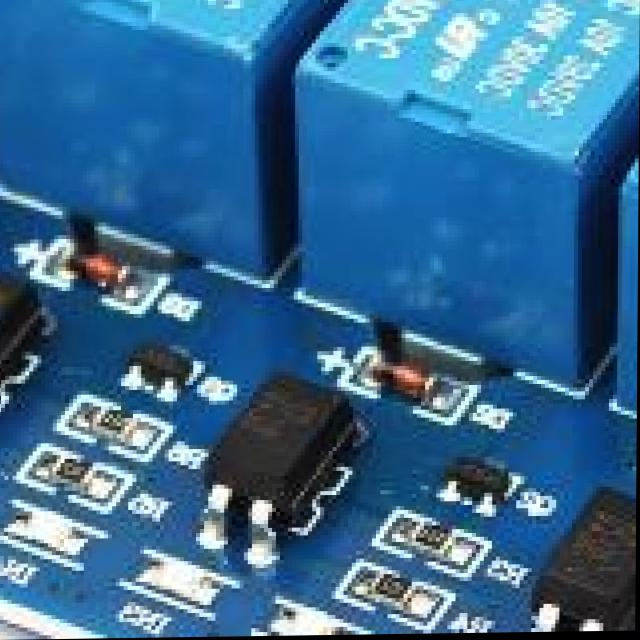IC: (197, 368, 362, 540), (536, 465, 637, 634), (0, 247, 47, 432)
LED: (11, 495, 77, 574), (138, 554, 209, 622), (272, 592, 357, 637)
diode: (52, 238, 167, 319), (370, 339, 470, 410)
relay: (294, 0, 640, 277), (7, 0, 452, 128), (634, 0, 640, 385)
resistor: (401, 510, 493, 573), (75, 402, 162, 459), (360, 567, 437, 622), (45, 447, 105, 503)
transistor: (114, 326, 198, 405), (437, 442, 509, 521)
